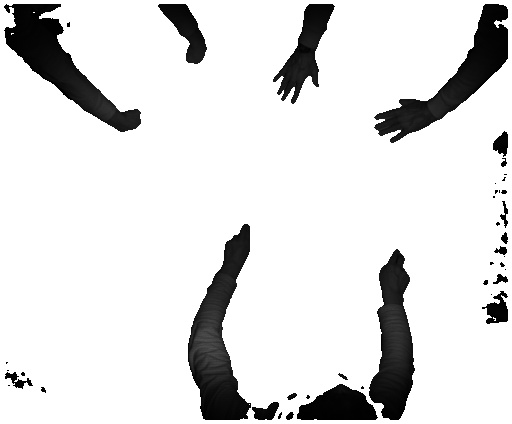fist: (115, 106, 143, 135), (184, 40, 207, 63)
hand: (368, 100, 428, 143), (272, 54, 319, 103), (376, 248, 413, 299), (224, 224, 255, 273)
